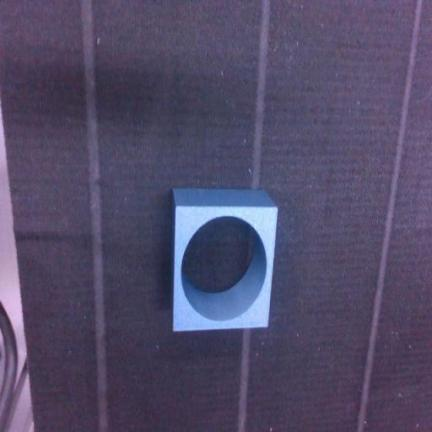square: (173, 189, 277, 330)
